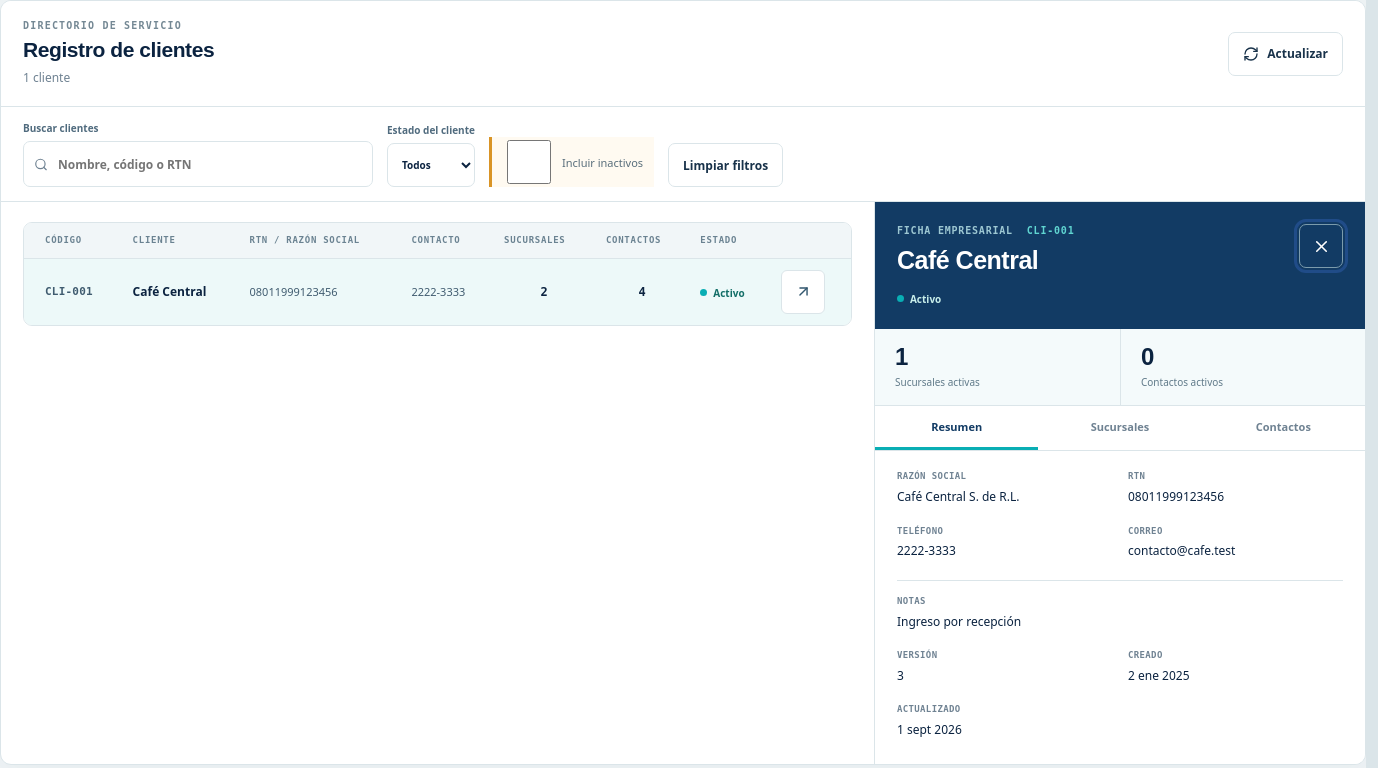
it: ClientsPage › usa la sucursal conocida al pasar Sucursales→Contactos aunque la ficha true la incluya
Expected: the element named "Ficha de Café Central" is shown, [875,202,1365,764]
Click the tab "Sucursales" at (1120,428), box [1038,406,1202,450]
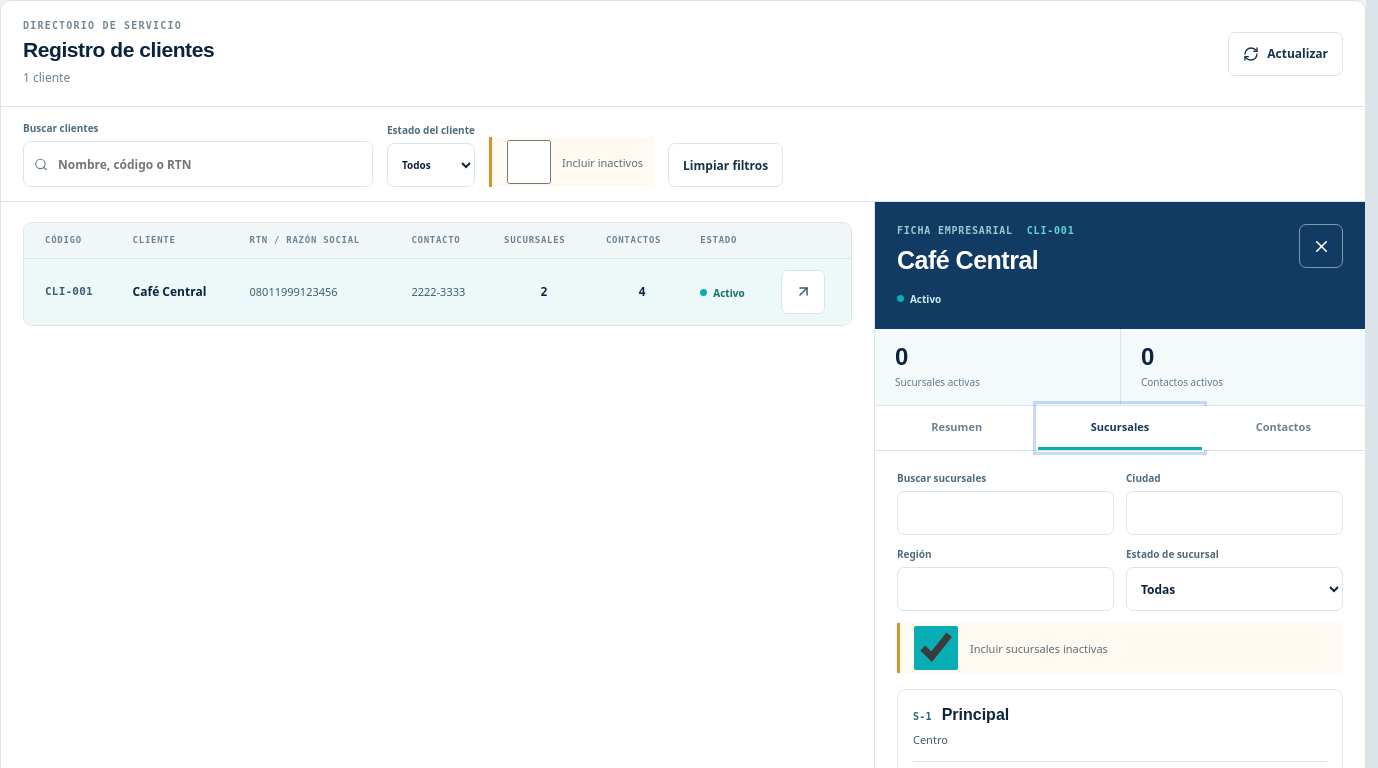
Click the tab "Contactos" at (1283,428), box [1202,406,1365,450]
(page scrolled)
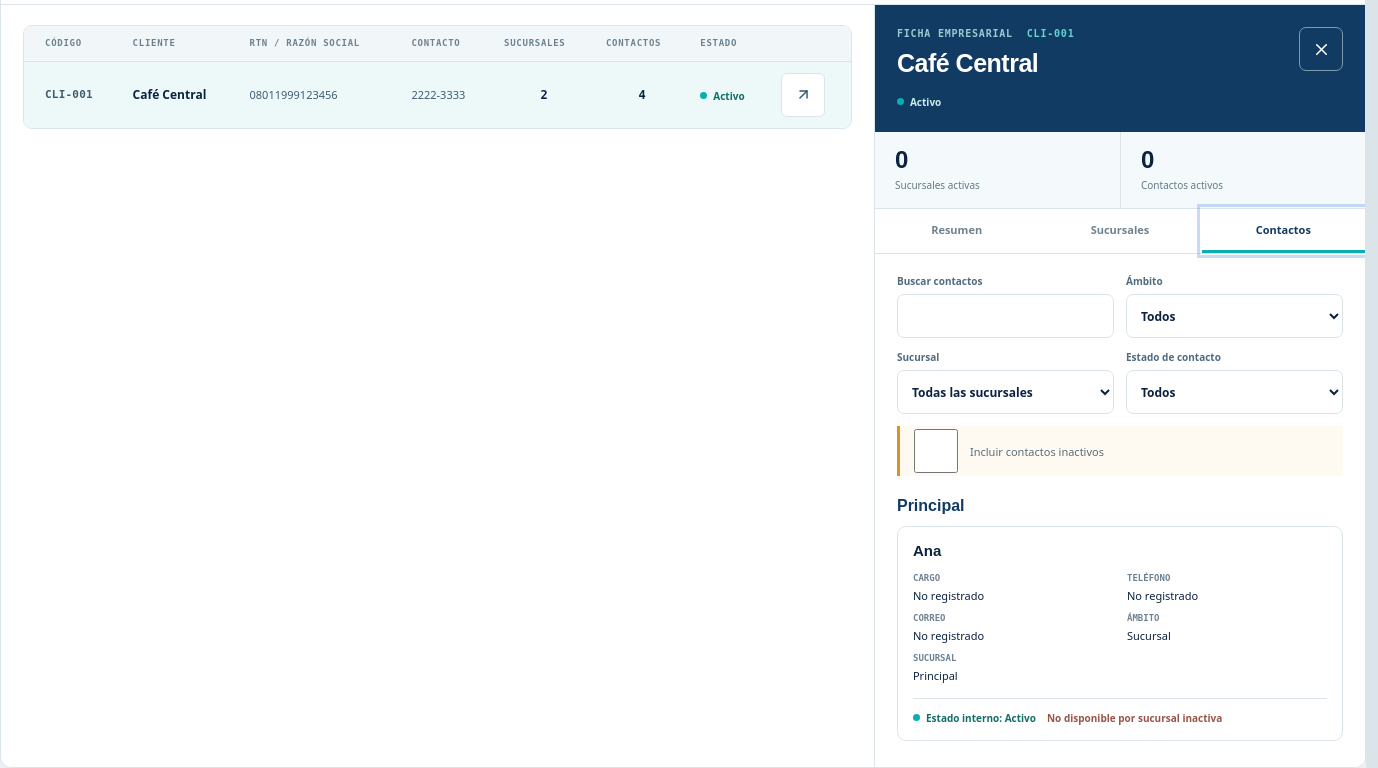
Expected: the text "No disponible por sucursal inactiva" is shown, [1047,711,1222,725]
